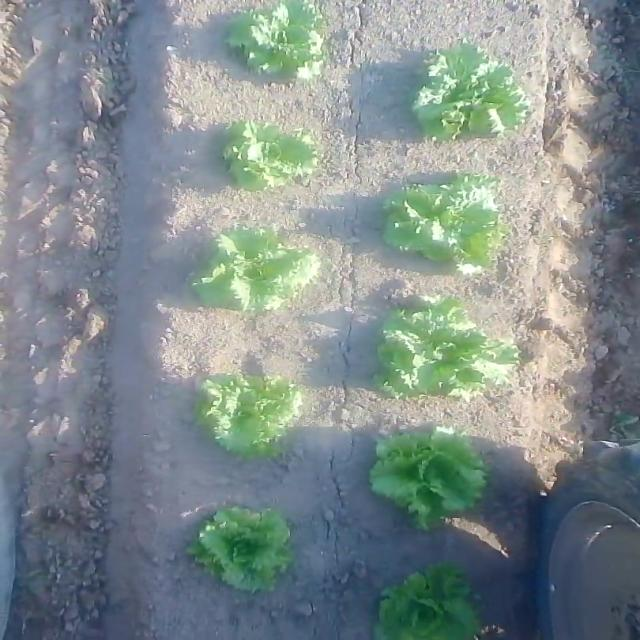Lettuce-Ready-to-Harvest: (176, 498, 310, 592), (370, 421, 477, 519)
